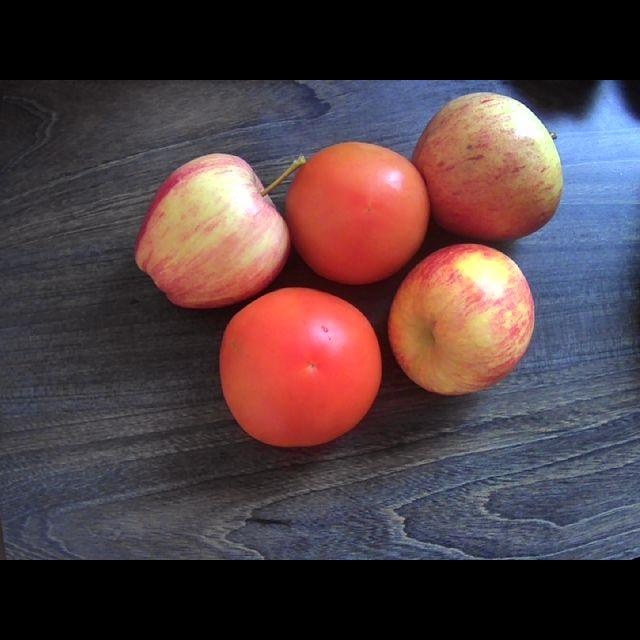manzana: (137, 153, 304, 308), (412, 92, 562, 241), (389, 244, 534, 395)
tomate: (220, 288, 380, 445), (285, 142, 429, 284)
